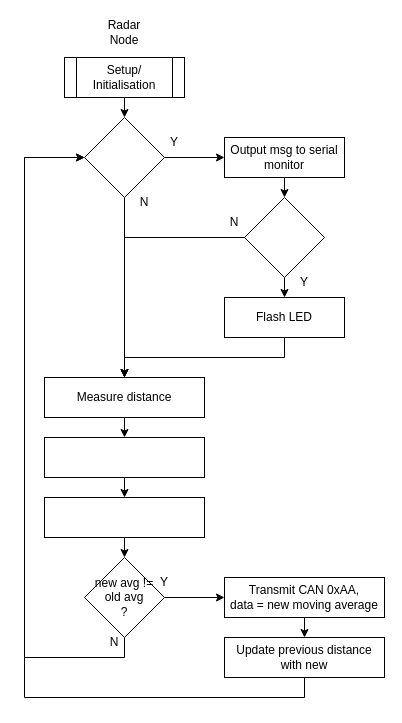
This 402x723 diagram has some shape labels left out. The box of each missing label's shape, as (x1, y1, x2, y2) in pixels:
Calculate moving average: (44, 496, 204, 538)
CAN id == 0x0F ?: (244, 196, 324, 278)
CAN msg received ?: (84, 116, 164, 198)
Recplace oldest distance in SUM with new distance: (44, 436, 204, 478)
